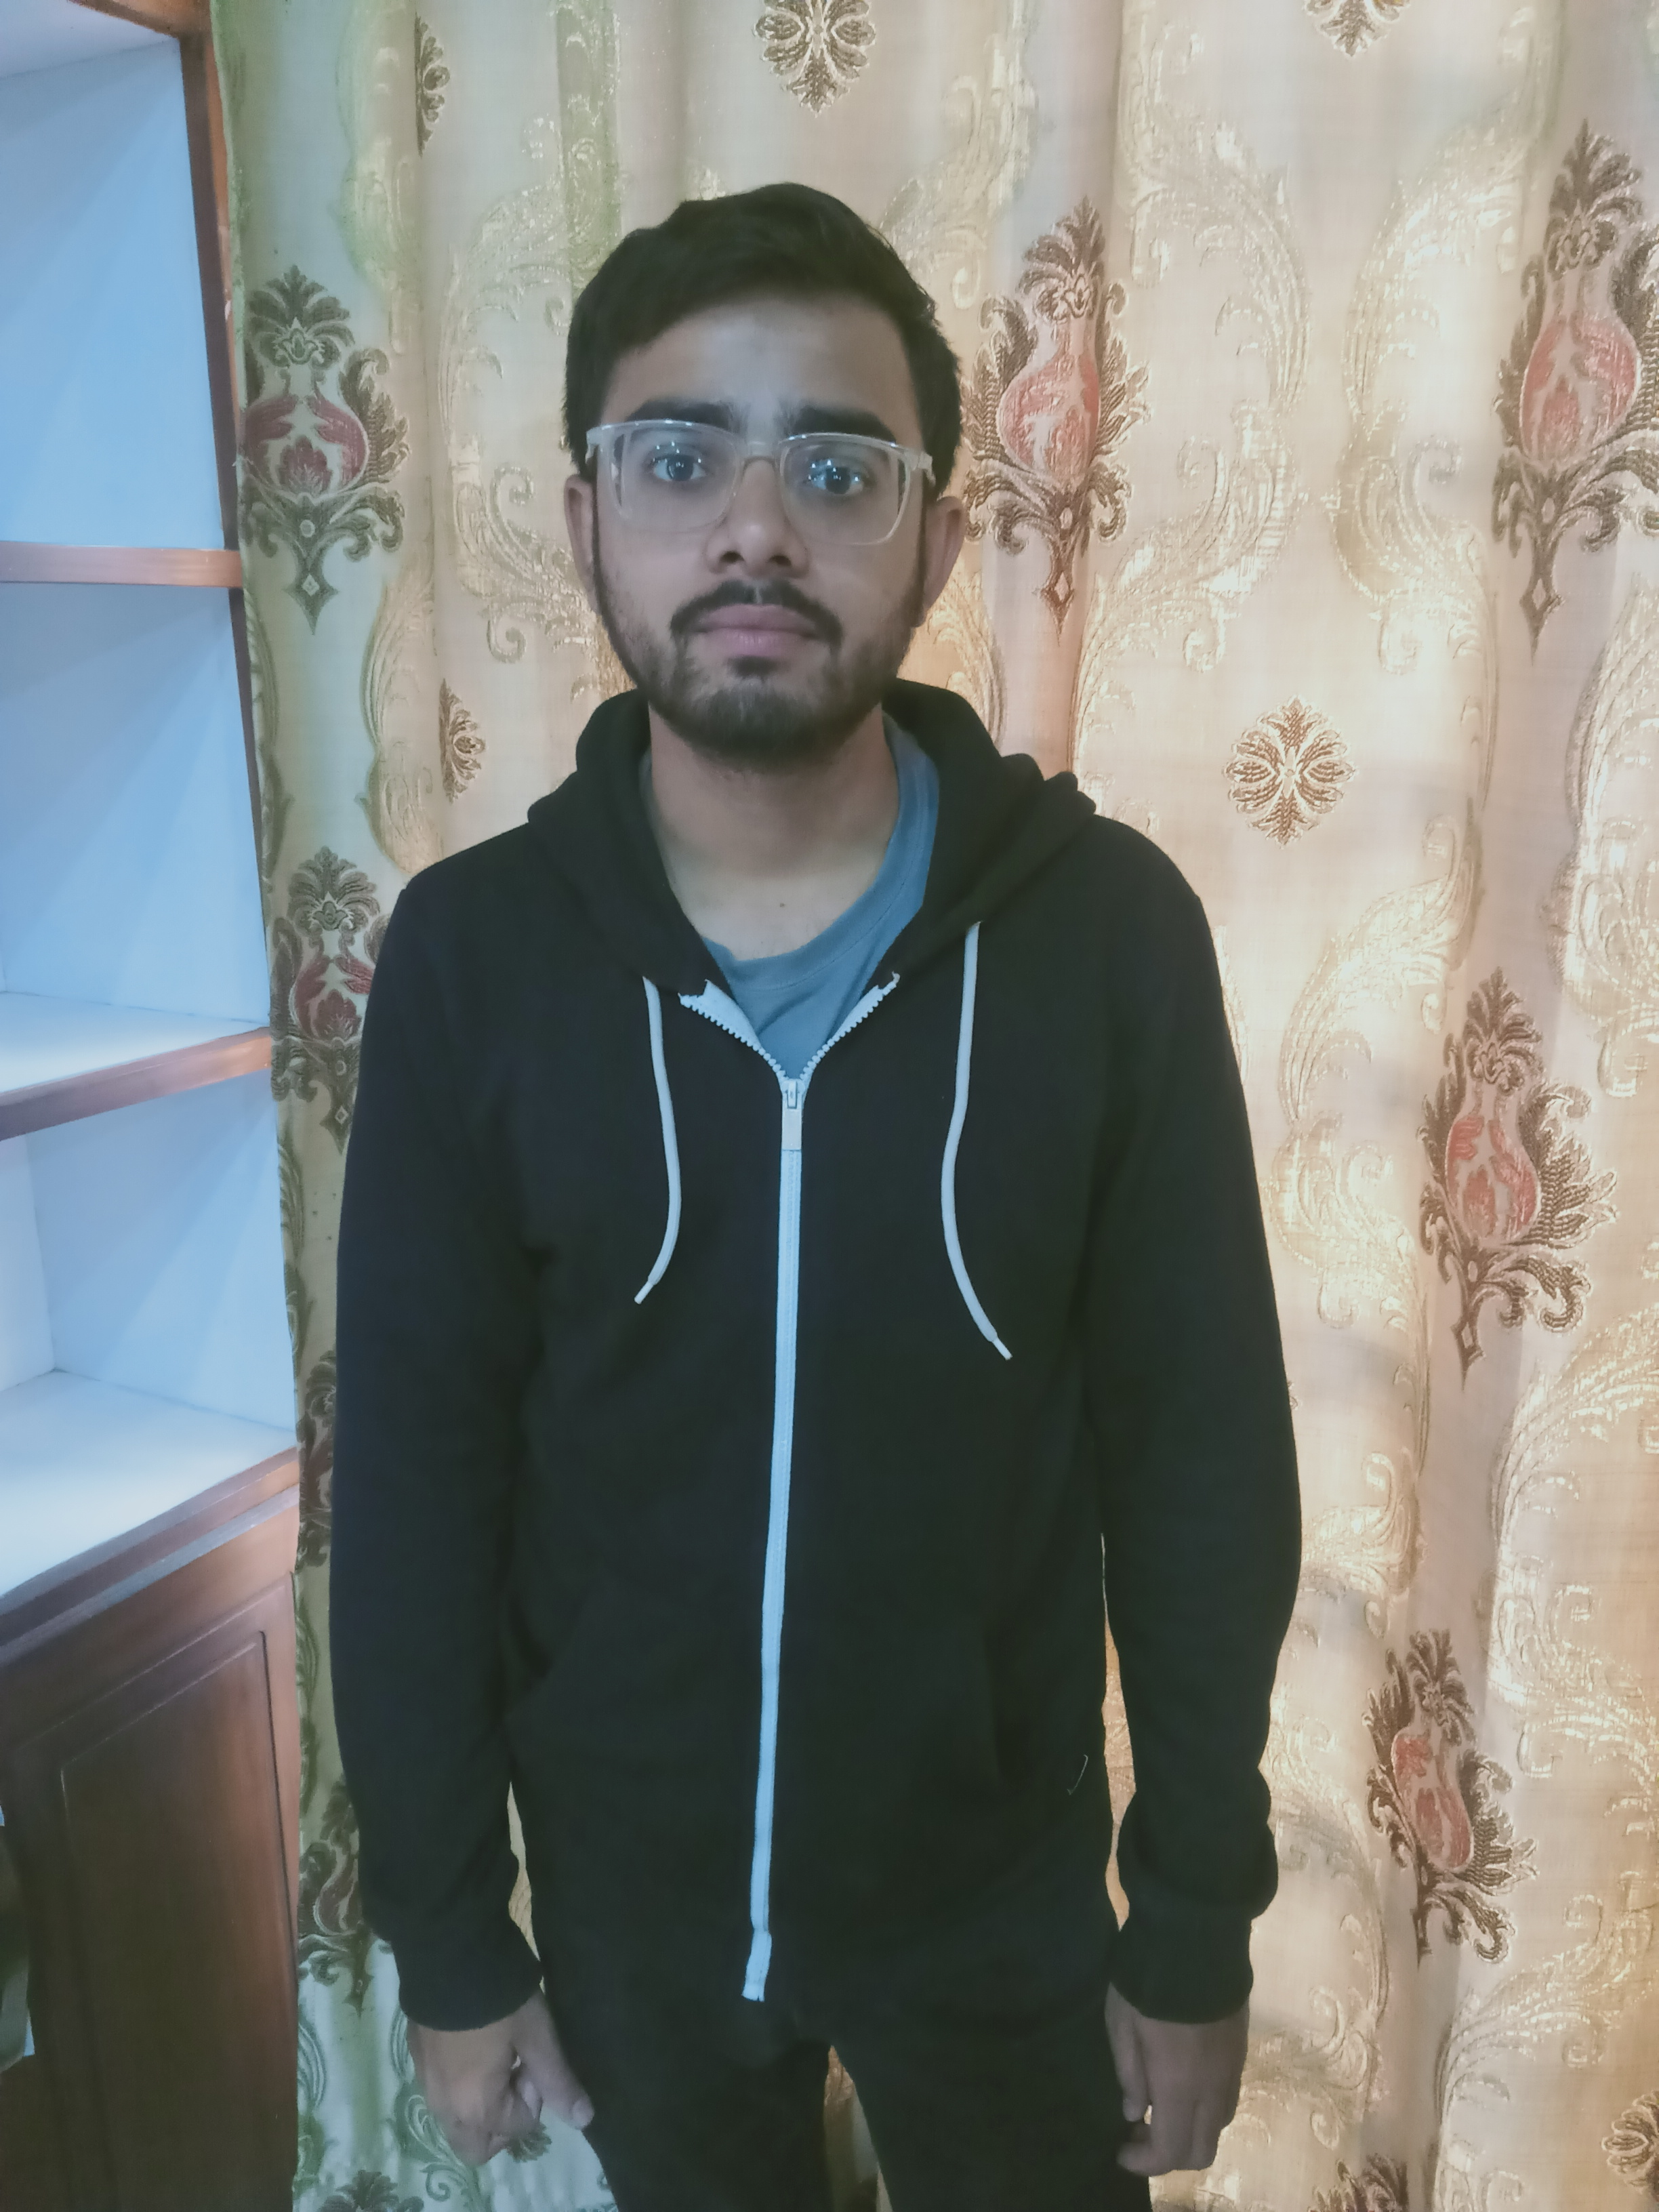NoMask: (606, 377, 911, 757)
